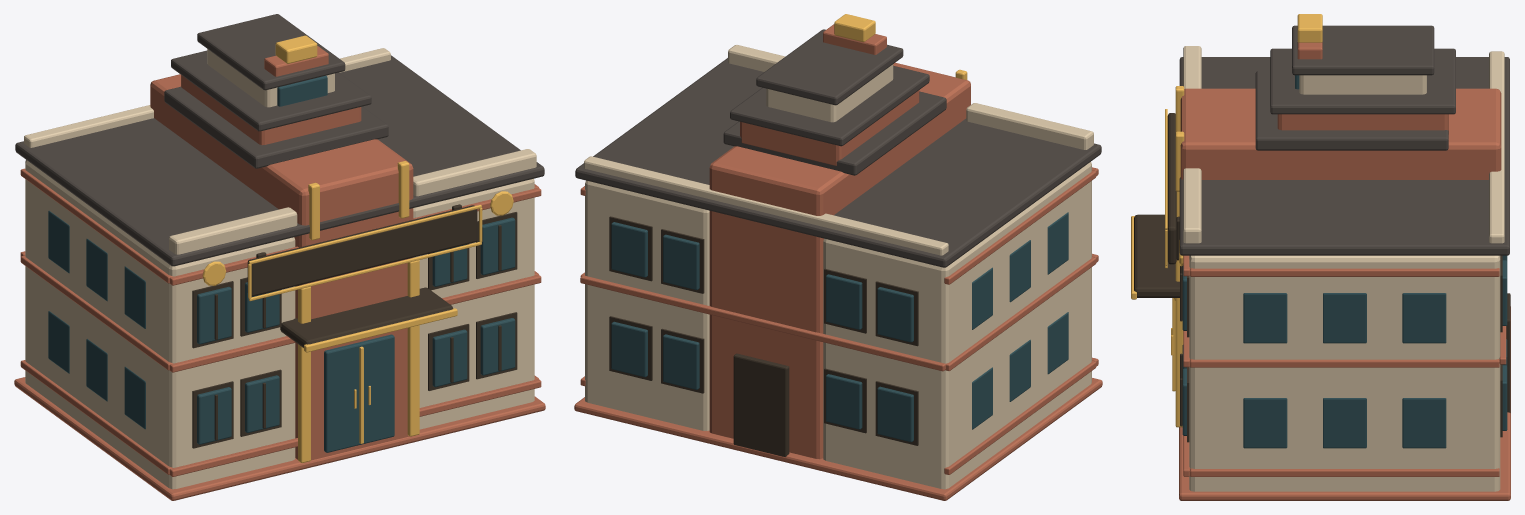
File: SilverScreen_StudioHeadquarters.glb
3 renders of one model, left to right at view 1: azimuth 30°, elevation 25°; view 2: azimuth 150°, elevation 25°; view 3: azimuth 270°, elevation 25°, orthographic. The views are drawn at different scales.
Visible parts, largest first — view 1: HQ_Body, HQ_Roof, HQ_Trim, HQ_Windows, HQ_Sign, HQ_Doors; view 2: HQ_Body, HQ_Roof, HQ_Windows, HQ_Trim, HQ_Doors; view 3: HQ_Body, HQ_Roof, HQ_Trim, HQ_Windows, HQ_Sign, HQ_Doors.
Boxes of the visible parts, bbox=[...] form: HQ_Body: bbox=[14, 49, 545, 500]; HQ_Roof: bbox=[15, 14, 544, 266]; HQ_Trim: bbox=[20, 161, 541, 476]; HQ_Windows: bbox=[48, 75, 515, 444]; HQ_Sign: bbox=[202, 191, 513, 301]; HQ_Doors: bbox=[324, 334, 394, 452]; HQ_Body: bbox=[574, 62, 1102, 500]; HQ_Roof: bbox=[575, 14, 1101, 267]; HQ_Windows: bbox=[611, 212, 1068, 442]; HQ_Trim: bbox=[580, 69, 1098, 474]; HQ_Doors: bbox=[733, 353, 789, 456]; HQ_Body: bbox=[1179, 75, 1510, 500]; HQ_Roof: bbox=[1179, 14, 1509, 255]; HQ_Trim: bbox=[1131, 86, 1506, 476]; HQ_Windows: bbox=[1182, 75, 1507, 448]; HQ_Sign: bbox=[1165, 109, 1183, 268]; HQ_Doors: bbox=[1506, 293, 1510, 412].
Size of the model in its own units: 9.38 by 8.81 by 7.87.
